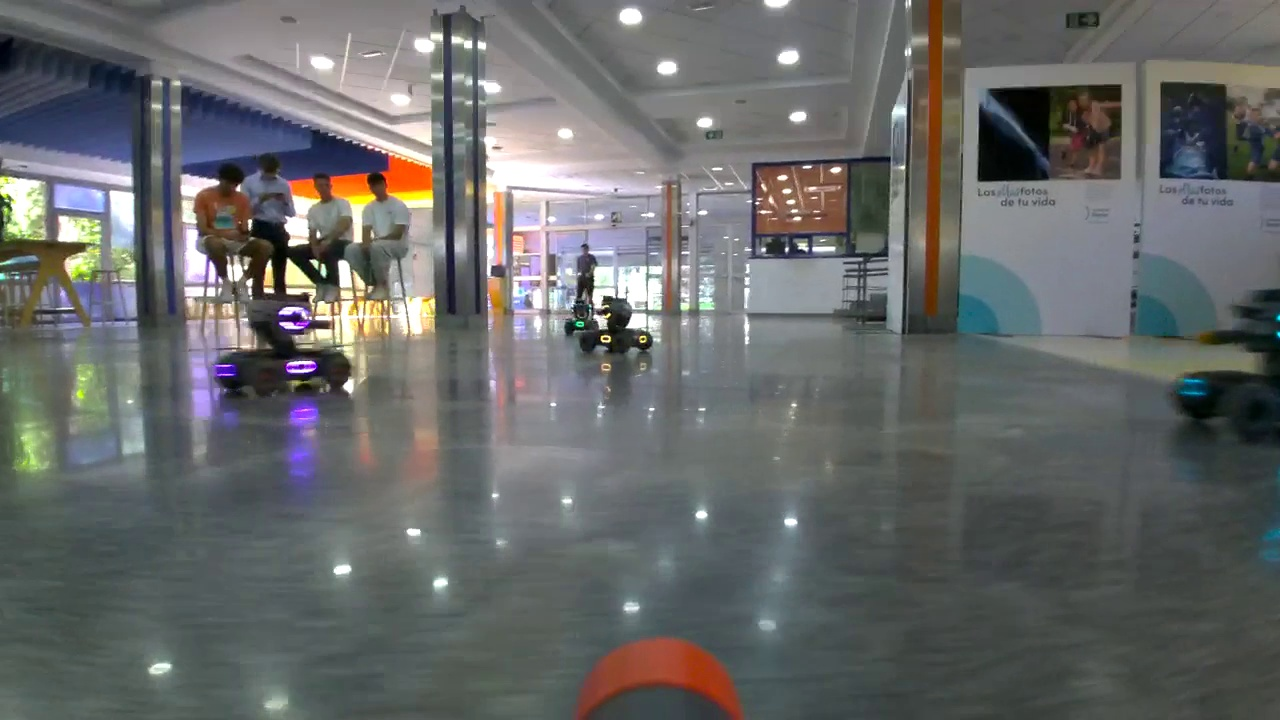robot: (1171, 288, 1280, 437), (212, 292, 347, 394), (583, 295, 654, 350), (568, 297, 596, 335)
